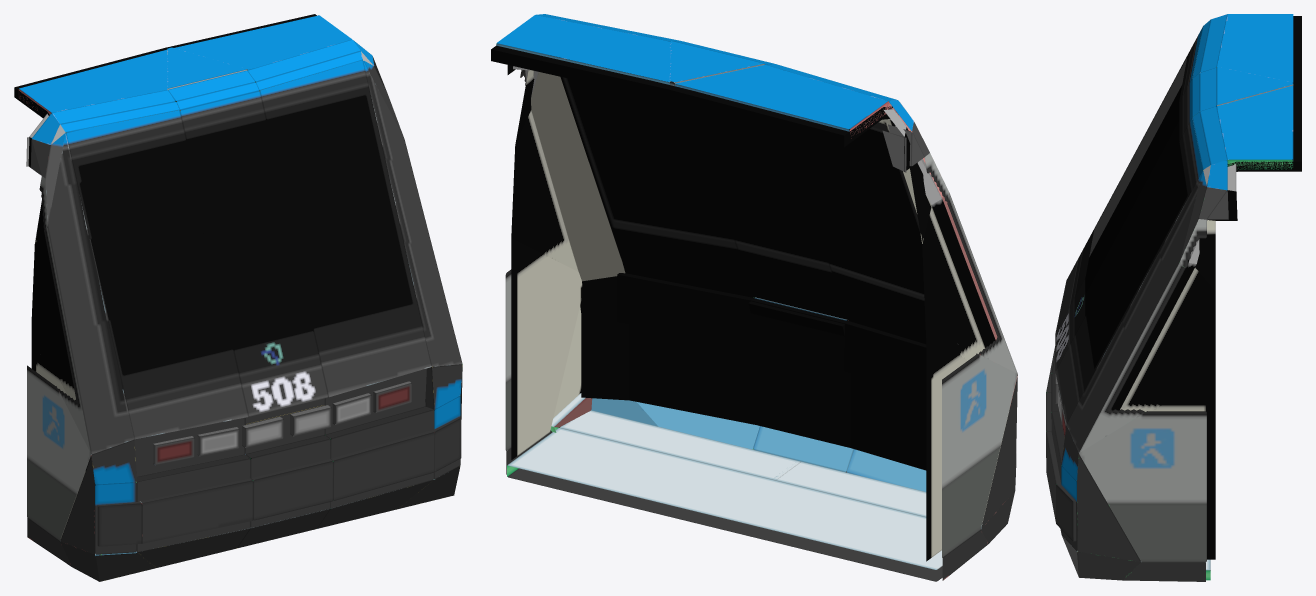
Rendered from mp05_fav_idfm.obj.
3 views of the same model, side by side, from view 1: azimuth 30°, elevation 25°; view 2: azimuth 150°, elevation 25°; view 3: azimuth 270°, elevation 25° (orthographic). The views are drawn at different scales.
Visible parts, largest first — view 1: tete, tete_int; view 2: tete_int, tete; view 3: tete, tete_int.
Boxes of the visible parts, x1,y1,x2,y2 form: tete: (18,15,462,581); tete_int: (14,14,434,540); tete_int: (491,45,1009,561); tete: (496,14,1017,581); tete: (1046,14,1293,581); tete_int: (1085,16,1301,559).
Bounding box in the file's own units: 2.44 × 2.58 × 1.47.
Materials: 3 (3 with a texture image).
